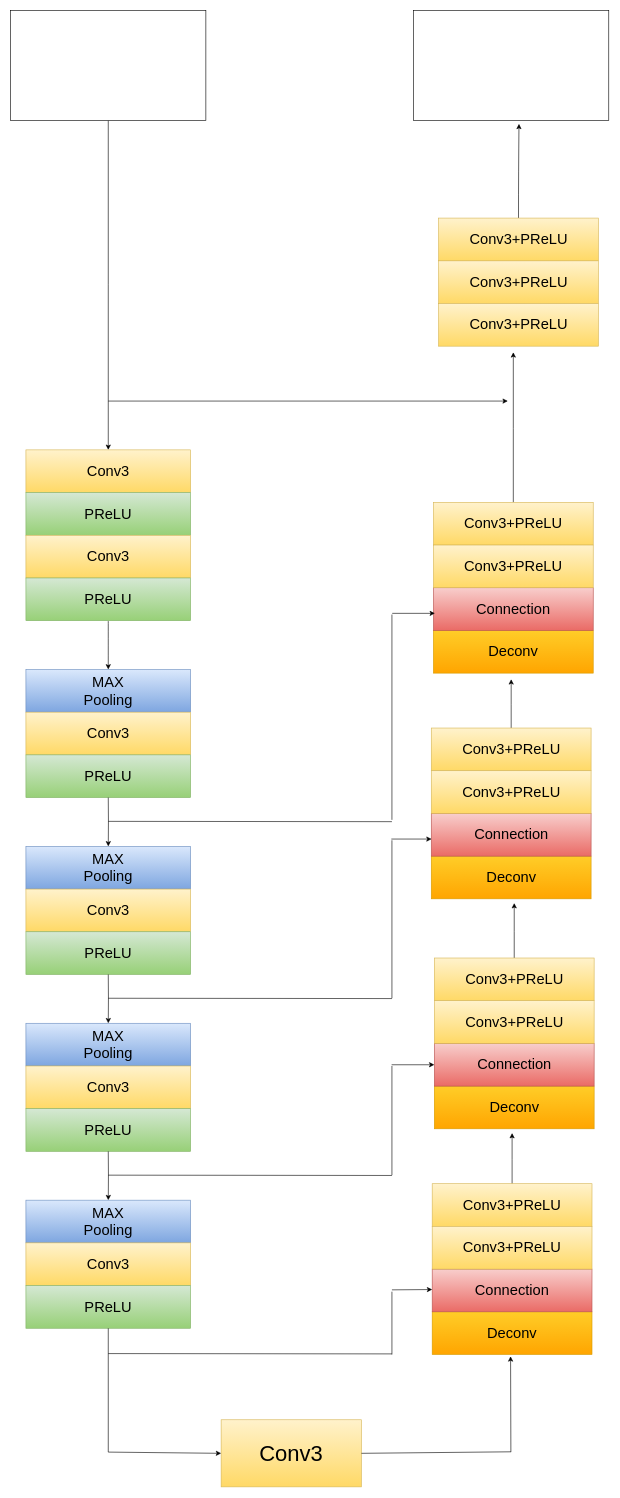
Some shapes in this 620 by 1498 pixel diagram are drawn without their labels. Here are the shapes that lost their labels. From the top down, the centre of each, then its label:
At (x=108, y=65): "Input image".
At (x=511, y=65): "Output image".
